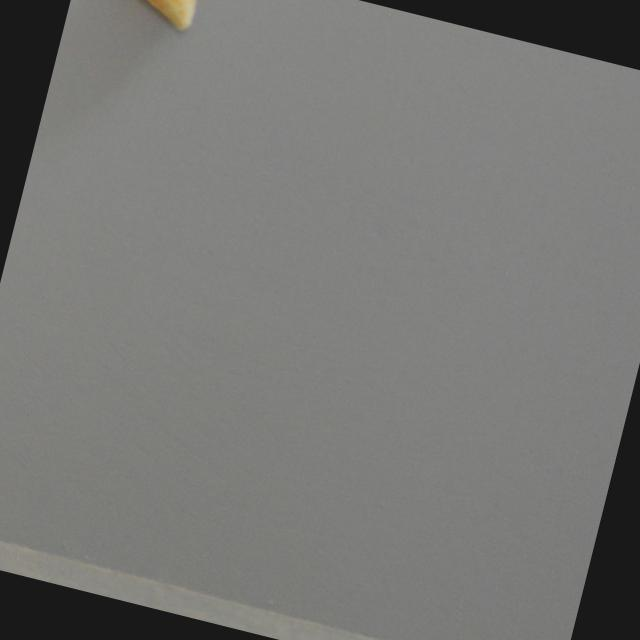pelicula: (102, 0, 231, 46)
